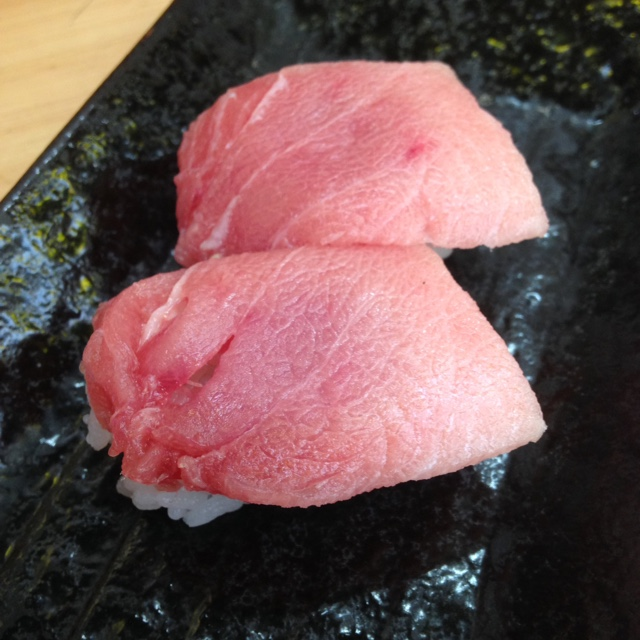medium_fatty_tuna: (76, 246, 549, 519), (166, 58, 553, 254)
